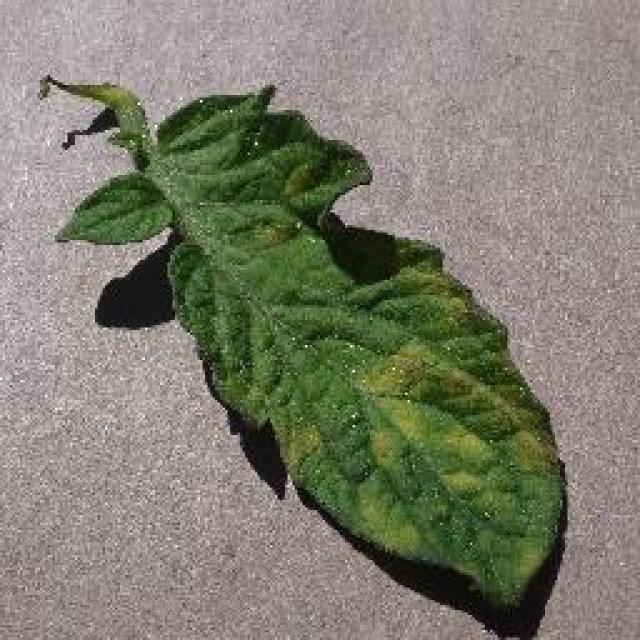Tomato___Leaf_Mold: (54, 80, 562, 612)
